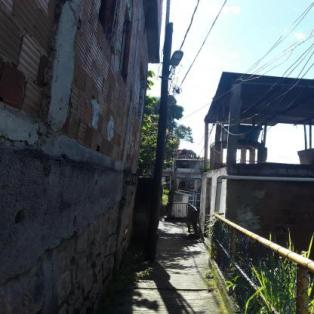Poste: (141, 18, 178, 261)
